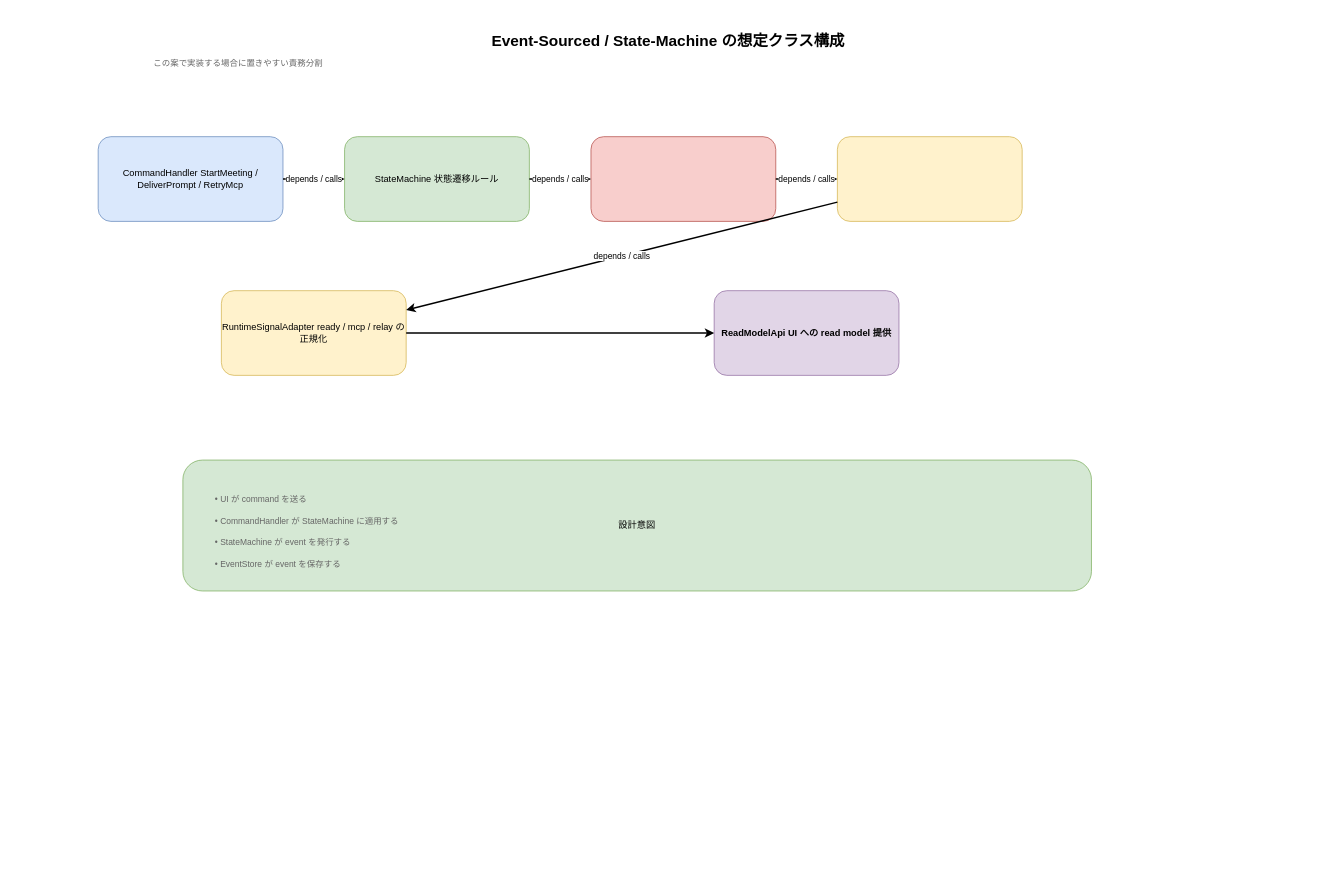
The diagram is 1335 pixels wide and 873 high, and some of its shapes have lost their labels. The centre of each missing label's shape, as x and y in pixels:
"EventStore append-only event log" goes at point (683, 178).
"ProjectionBuilder chat / summary / health view 構築" goes at point (929, 178).
